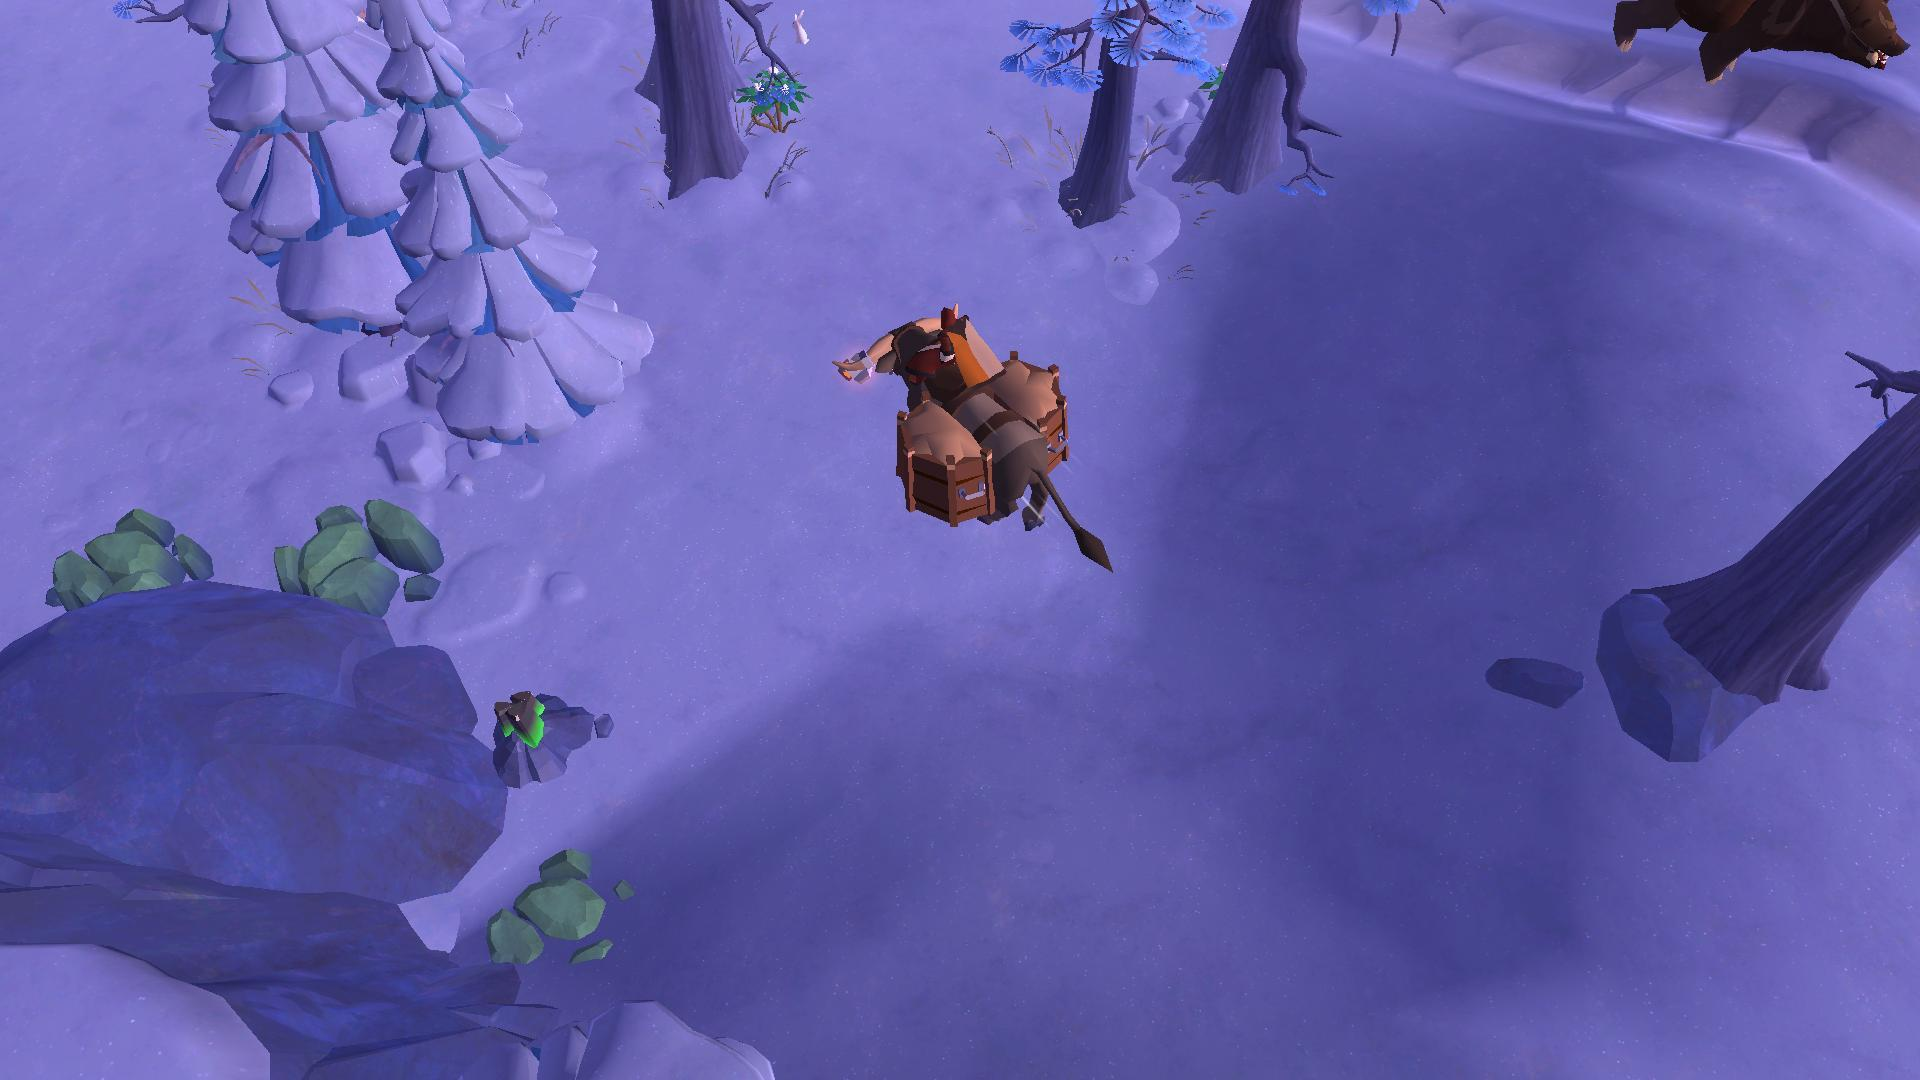fiber_t3: (736, 66, 808, 129)
ore_t3: (487, 688, 550, 756)
rock_t3: (265, 495, 447, 625), (469, 836, 636, 972), (42, 504, 219, 625)
